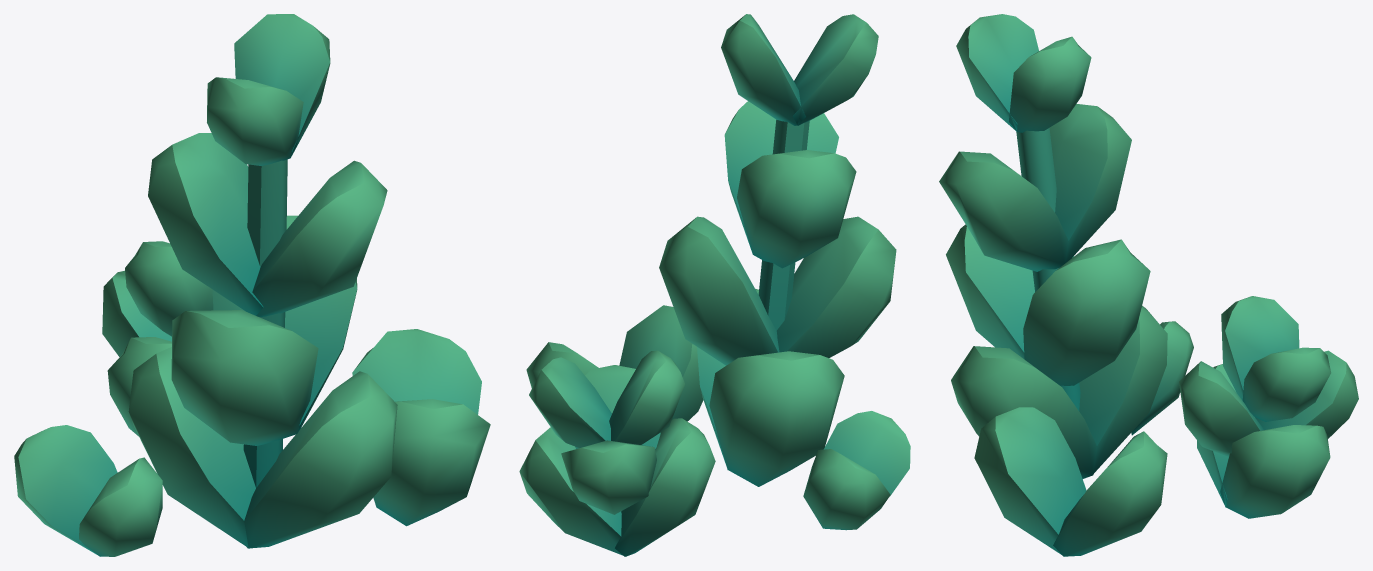
The picture shows the model from 3 angles, left to right: view 1: azimuth 30°, elevation 25°; view 2: azimuth 150°, elevation 25°; view 3: azimuth 270°, elevation 25°; orthographic projection. The views are drawn at different scales.
Parts seen in each view (by area): view 1: LOD 2_13142735058292916171_864aa3741cb91814880953315ea2c192; view 2: LOD 2_13142735058292916171_864aa3741cb91814880953315ea2c192; view 3: LOD 2_13142735058292916171_864aa3741cb91814880953315ea2c192.
Boxes of the visible parts, x1,y1,x2,y2 form: LOD 2_13142735058292916171_864aa3741cb91814880953315ea2c192: (14, 14, 490, 556); LOD 2_13142735058292916171_864aa3741cb91814880953315ea2c192: (519, 14, 910, 556); LOD 2_13142735058292916171_864aa3741cb91814880953315ea2c192: (939, 14, 1358, 556).
Size of the model in its own units: 0.6529 by 0.7995 by 0.6565.
